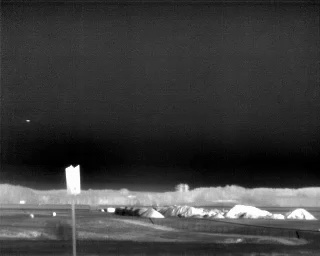BIRD: (24, 117, 31, 124)
